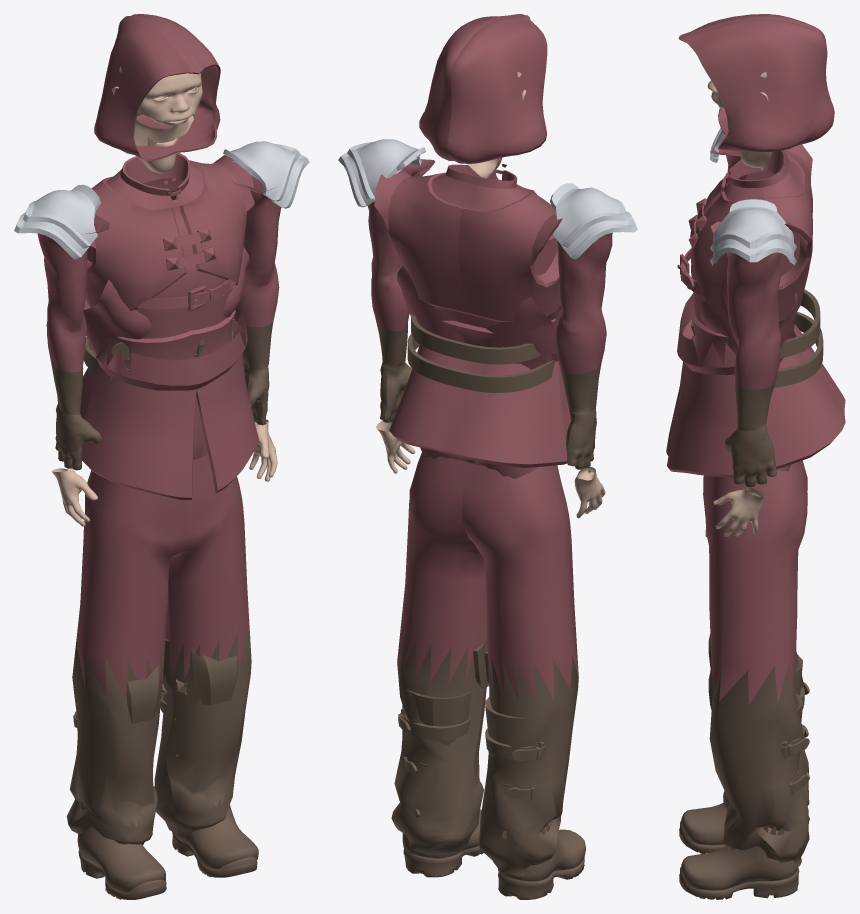
The model's file is warrior.glb.
3 renders of one model, left to right at view 1: azimuth 30°, elevation 25°; view 2: azimuth 150°, elevation 25°; view 3: azimuth 270°, elevation 25°, orthographic.
Parts seen in each view (by area): view 1: surcoat, skirt, thighR, shinL, shinR, thighL, helm, upperArmR, upperArmL, footR, pauldronR, chest (+9 smaller); view 2: surcoat, thighR, shinL, shinR, helm, thighL, skirt, upperArmR, belly, chest, pauldronR, upperArmL (+8 smaller); view 3: thighL, helm, shinL, skirt, surcoat, upperArmL, footL, pauldronL, forearmL, belly, footR, chest (+3 smaller).
Part boxes in pixels (x1=…): surcoat: x1=86, y1=152, x2=254, y2=377; skirt: x1=80, y1=308, x2=258, y2=500; thighR: x1=76, y1=470, x2=186, y2=697; shinL: x1=154, y1=624, x2=251, y2=837; shinR: x1=66, y1=641, x2=167, y2=844; thighL: x1=165, y1=454, x2=249, y2=679; helm: x1=94, y1=14, x2=220, y2=161; upperArmR: x1=37, y1=214, x2=109, y2=372; upperArmL: x1=231, y1=175, x2=281, y2=326; footR: x1=77, y1=800, x2=166, y2=899; pauldronR: x1=14, y1=184, x2=100, y2=259; chest: x1=83, y1=160, x2=249, y2=363; surcoat: x1=374, y1=164, x2=562, y2=345; thighR: x1=462, y1=462, x2=578, y2=702; shinL: x1=391, y1=634, x2=488, y2=854; shinR: x1=478, y1=651, x2=578, y2=876; helm: x1=419, y1=14, x2=547, y2=163; thighL: x1=397, y1=452, x2=487, y2=683; skirt: x1=389, y1=344, x2=571, y2=467; upperArmR: x1=555, y1=233, x2=612, y2=374; belly: x1=407, y1=314, x2=554, y2=392; chest: x1=397, y1=164, x2=561, y2=369; pauldronR: x1=550, y1=183, x2=637, y2=259; upperArmL: x1=367, y1=159, x2=434, y2=331; thighL: x1=703, y1=461, x2=807, y2=705; helm: x1=678, y1=14, x2=834, y2=151; shinL: x1=708, y1=657, x2=809, y2=867; skirt: x1=666, y1=295, x2=845, y2=477; surcoat: x1=677, y1=144, x2=812, y2=367; upperArmL: x1=710, y1=221, x2=781, y2=389; footL: x1=679, y1=825, x2=799, y2=899; pauldronL: x1=710, y1=199, x2=796, y2=265; forearmL: x1=725, y1=383, x2=776, y2=487; belly: x1=691, y1=289, x2=823, y2=387; footR: x1=679, y1=803, x2=726, y2=853; chest: x1=699, y1=161, x2=798, y2=363.
Bounding box in the file's own units: 0.6586 × 1.8 × 0.3454.
